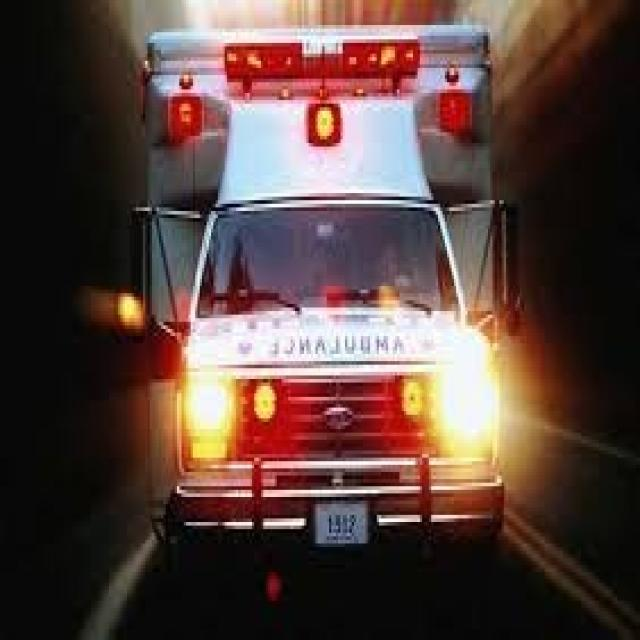ambulance: (145, 14, 545, 640)
